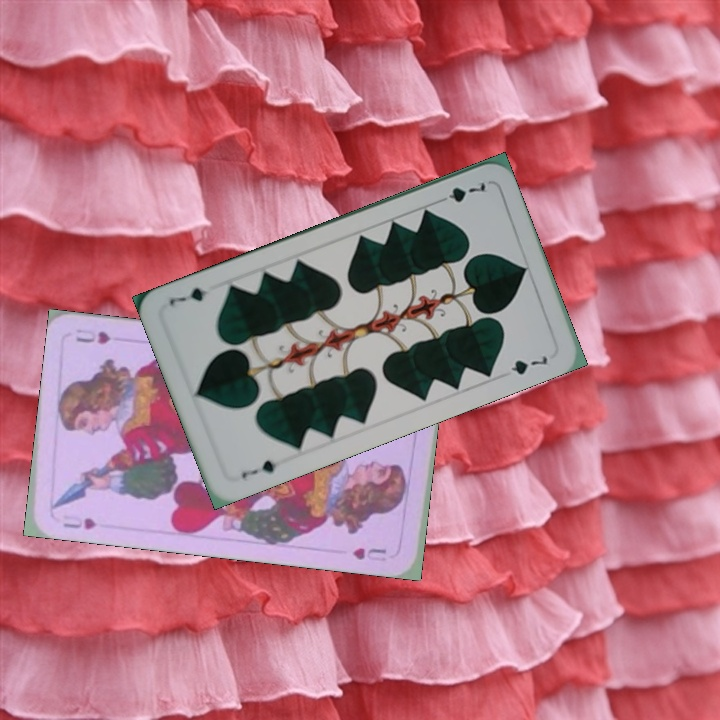G7: (433, 178, 488, 207), (237, 456, 286, 482)
HU: (58, 510, 99, 532)
